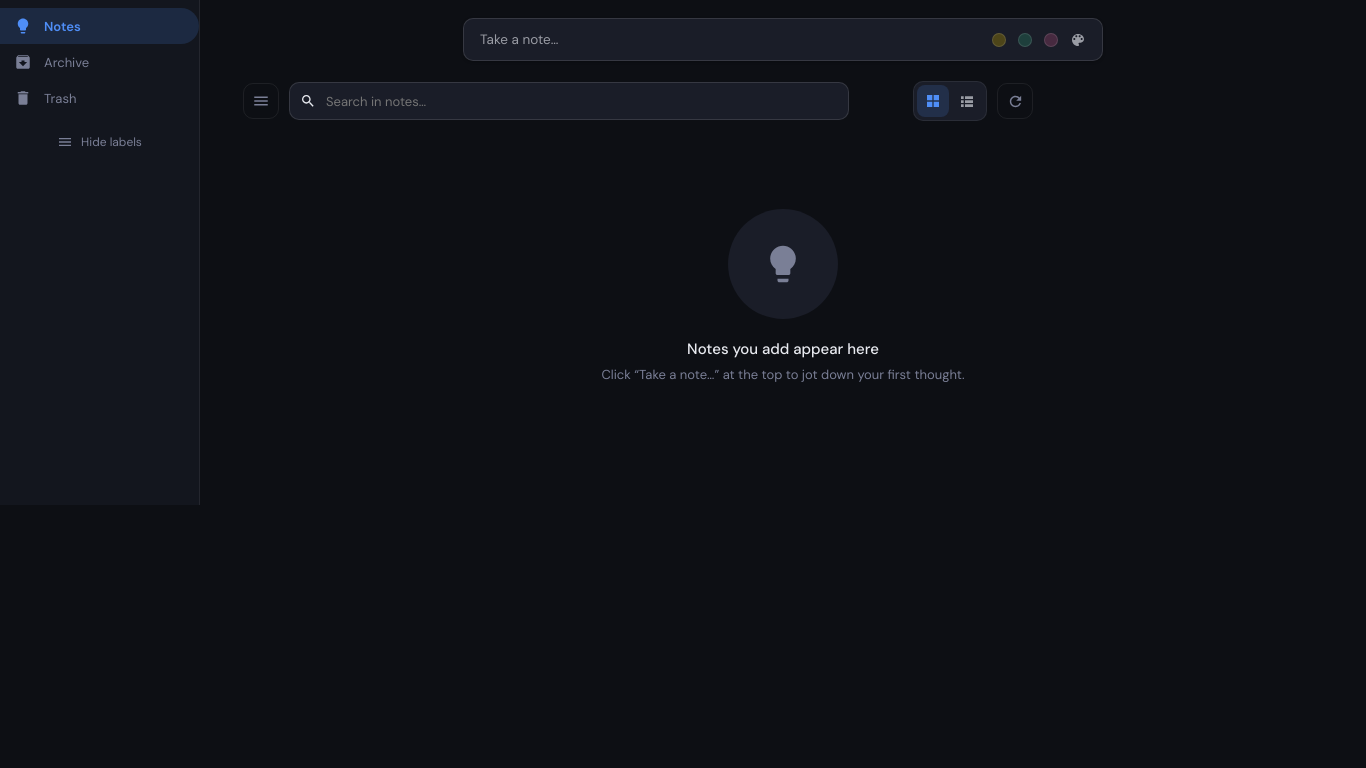
Test: closing an untouched empty editor creates nothing
expect the message is shown: met, box [602,209,965,383]
Click the button "Take a note…".
click(519, 40)  # box [463,18,1103,61]
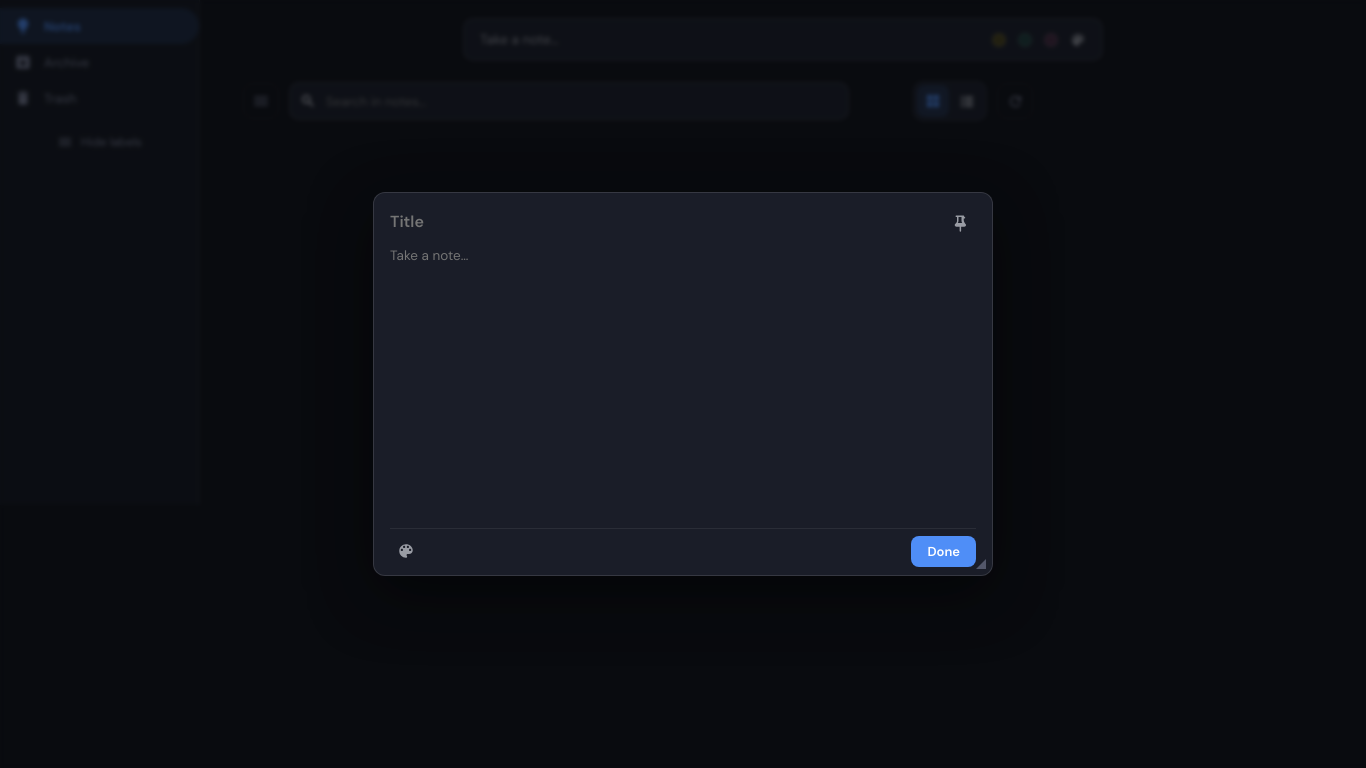
Click the button "Done".
click(944, 551)  # box [912,536,976,566]
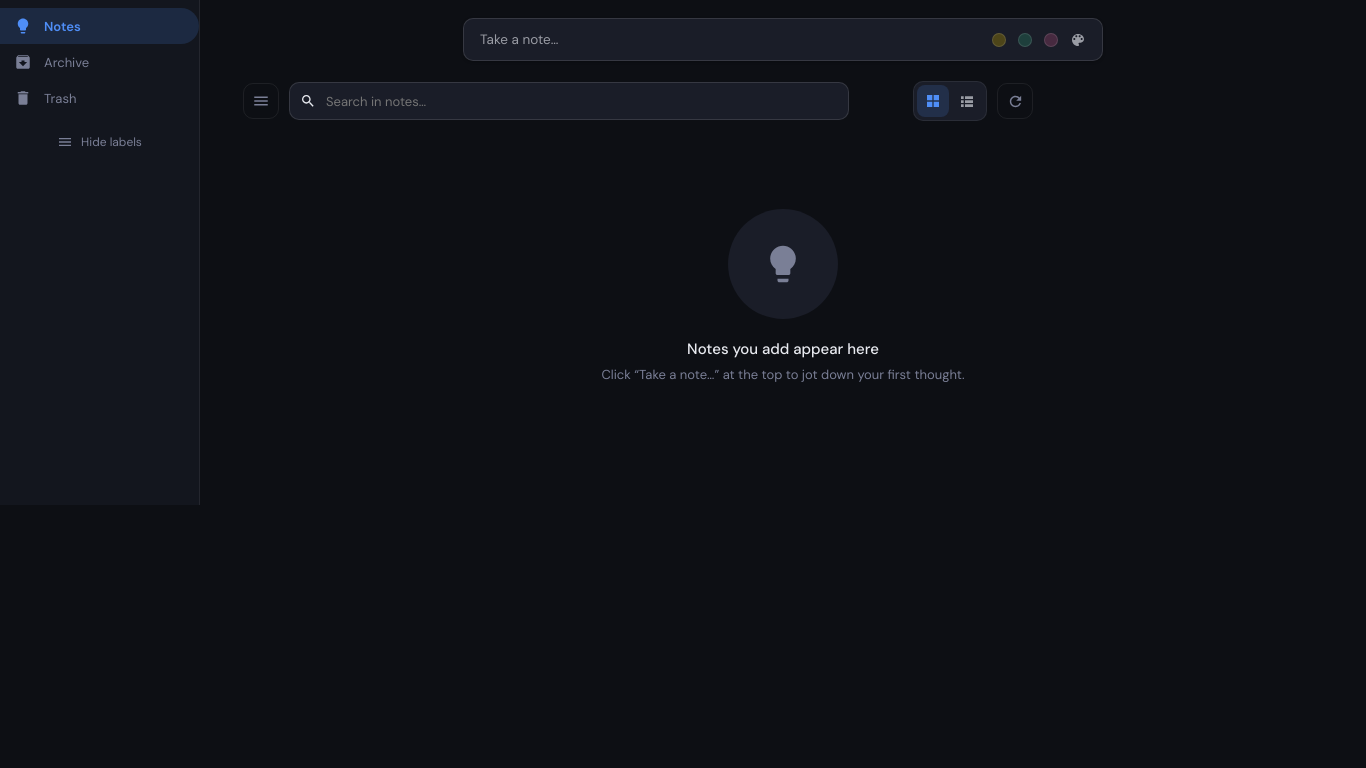
expect the dialog is gone: met
